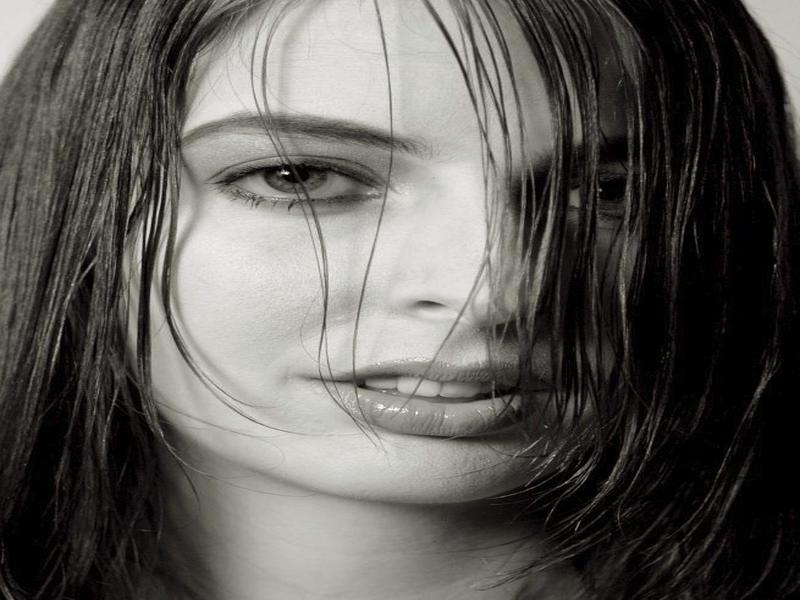person: (4, 1, 794, 597)
